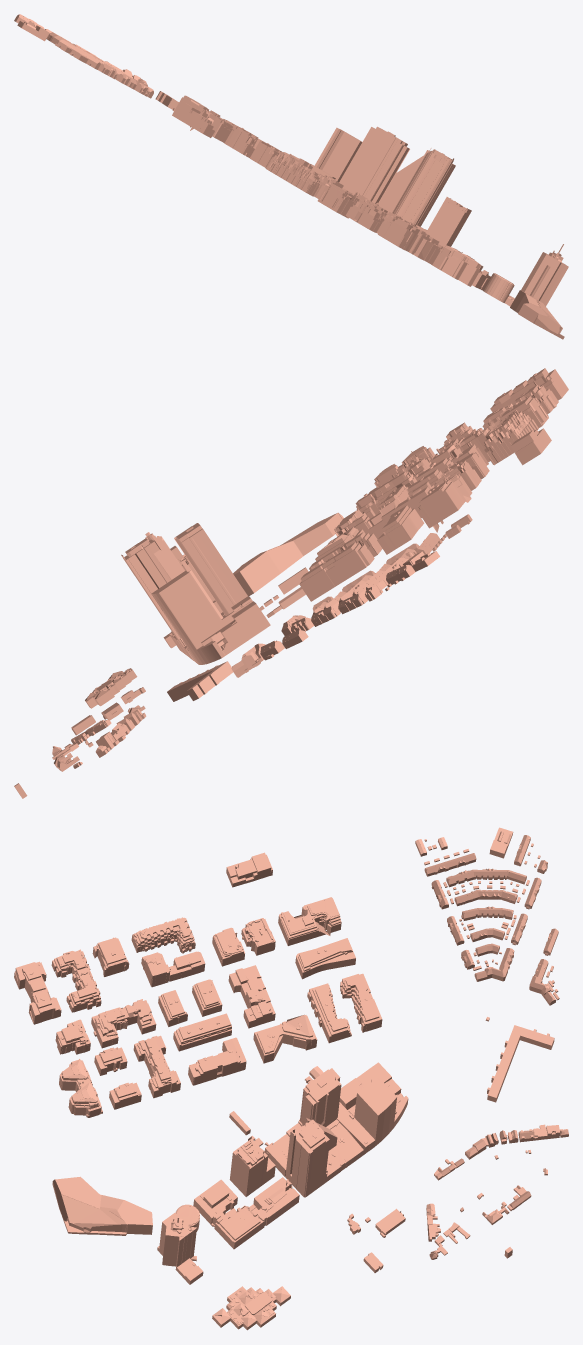
3 views of the same model, one above another, from view 1: azimuth 30°, elevation 25°; view 2: azimuth 150°, elevation 25°; view 3: azimuth 270°, elevation 25° (orthographic). The views are drawn at different scales.
Size of the model in its own units: 1.77e+07 by 1.29e+07 by 2.1e+07.
